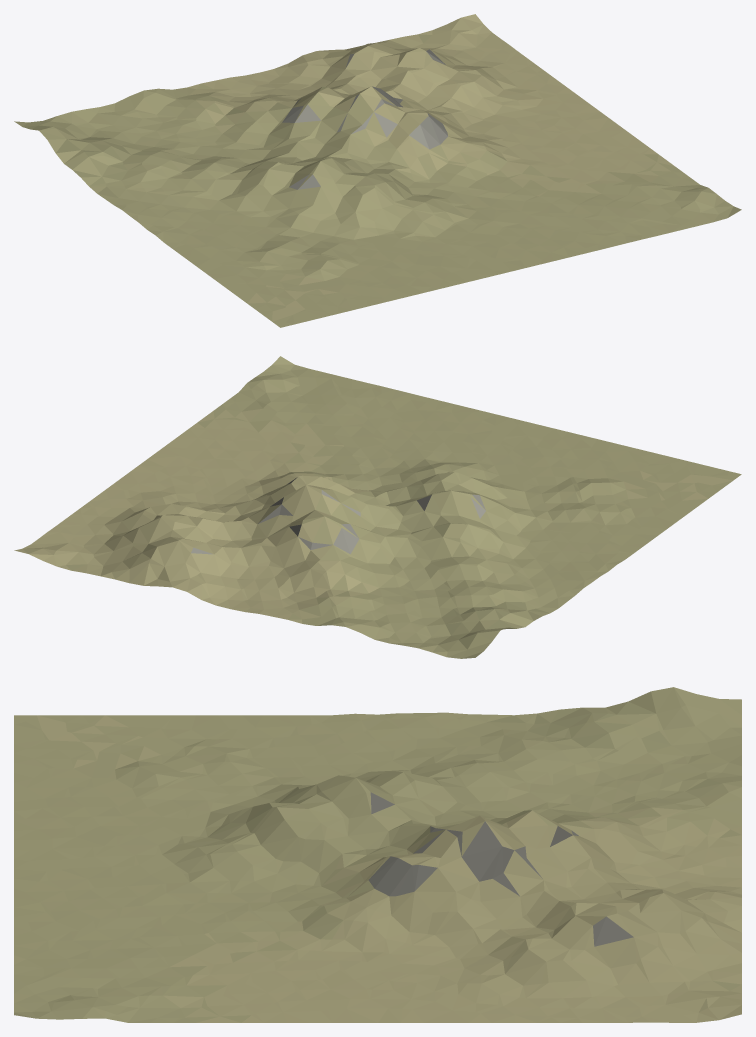
The model's file is Ground_-4_-6.glb.
The picture shows the model from 3 angles, top to bottom: view 1: azimuth 30°, elevation 25°; view 2: azimuth 150°, elevation 25°; view 3: azimuth 270°, elevation 25°; orthographic projection. The views are drawn at different scales.
Visible parts, largest first — view 1: Ground_-4_-6; view 2: Ground_-4_-6; view 3: Ground_-4_-6.
Part boxes in pixels (<box>): Ground_-4_-6: <box>14,14,741,327</box>; Ground_-4_-6: <box>14,356,741,658</box>; Ground_-4_-6: <box>14,687,741,1022</box>.
Size of the model in its own units: 768 by 81.3 by 768.
